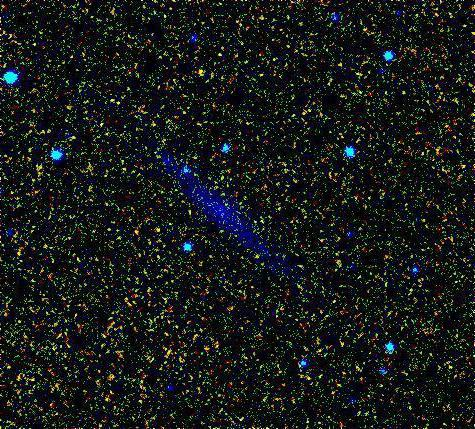star: (168, 152, 198, 182)
